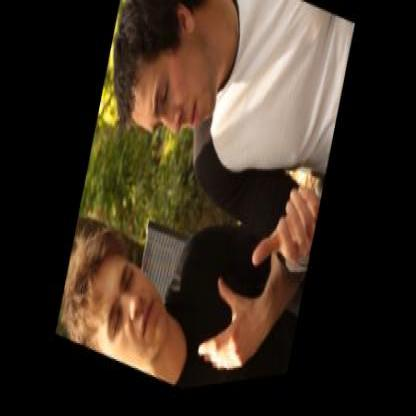knife: (173, 358, 240, 394)
